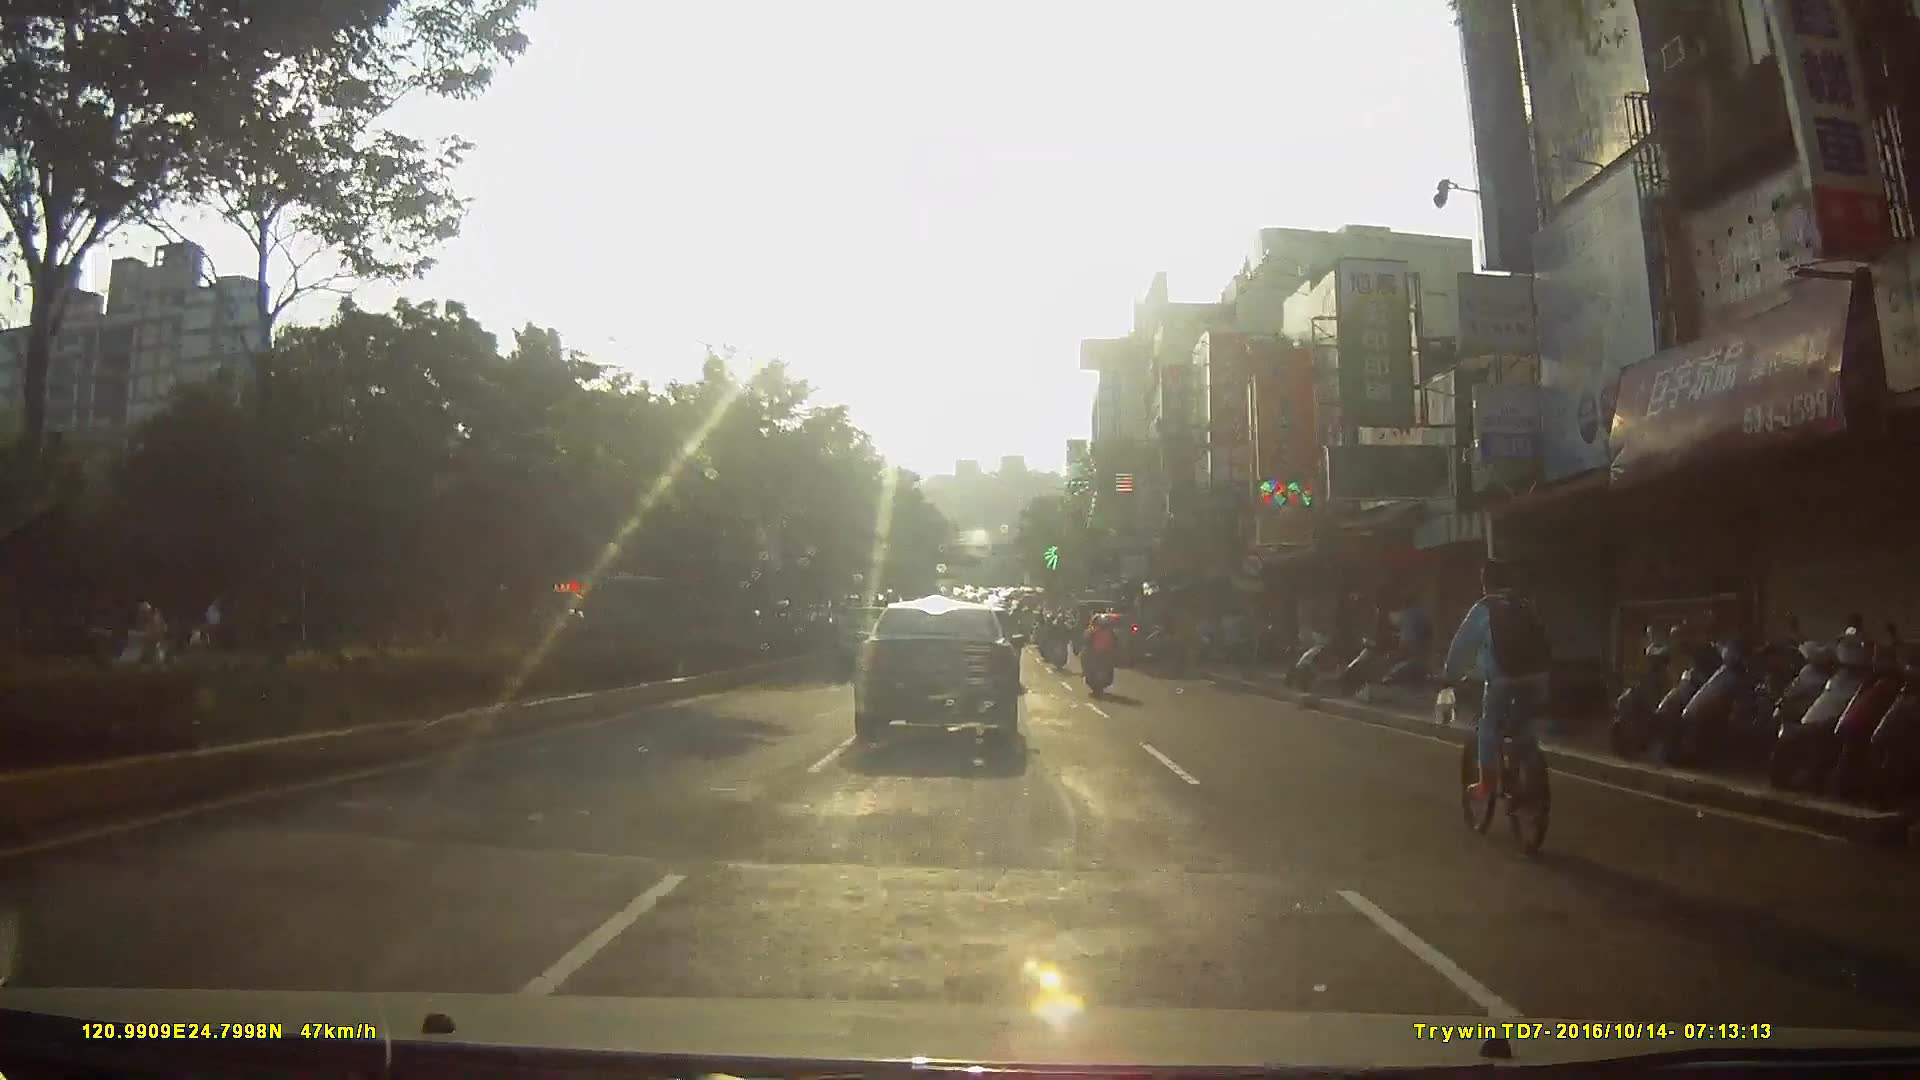rider: (1438, 564, 1555, 853), (111, 597, 172, 696), (1078, 620, 1118, 711), (1044, 618, 1072, 676)
vehicle: (849, 598, 1036, 767), (1082, 609, 1150, 671)
